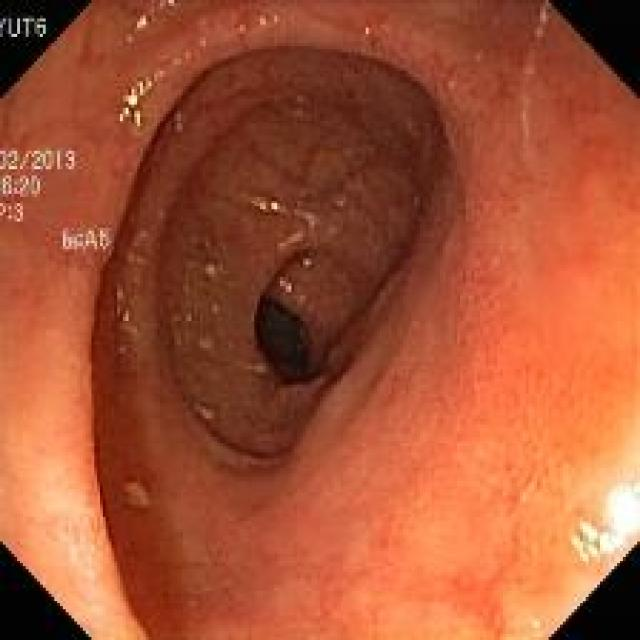ulcerative-colitis-grade-1: (98, 3, 638, 638)
